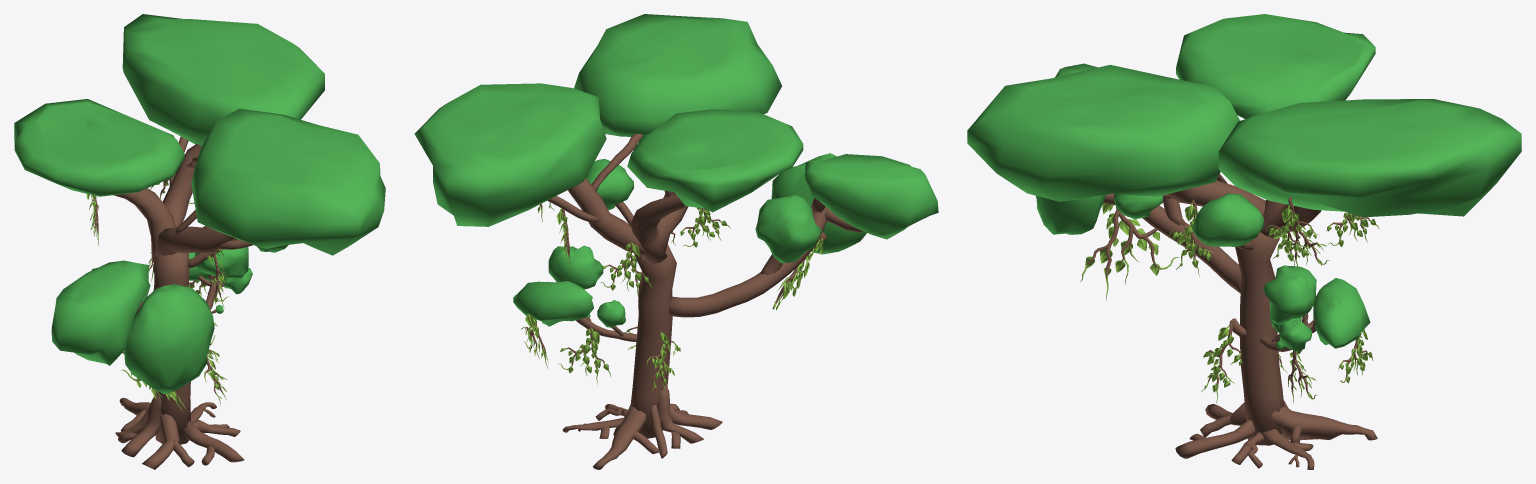
The model's file is Tree.fbx.
3 renders of one model, left to right at view 1: azimuth 30°, elevation 25°; view 2: azimuth 150°, elevation 25°; view 3: azimuth 270°, elevation 25°, orthographic. The views are drawn at different scales.
Parts seen in each view (by area): view 1: Tree; view 2: Tree; view 3: Tree.
Part boxes in pixels (x1,y1,x2,y2): Tree: (14, 14, 385, 469); Tree: (414, 14, 938, 469); Tree: (967, 14, 1521, 469).
Bounding box in the file's own units: 21.48 × 18.52 × 25.05.
